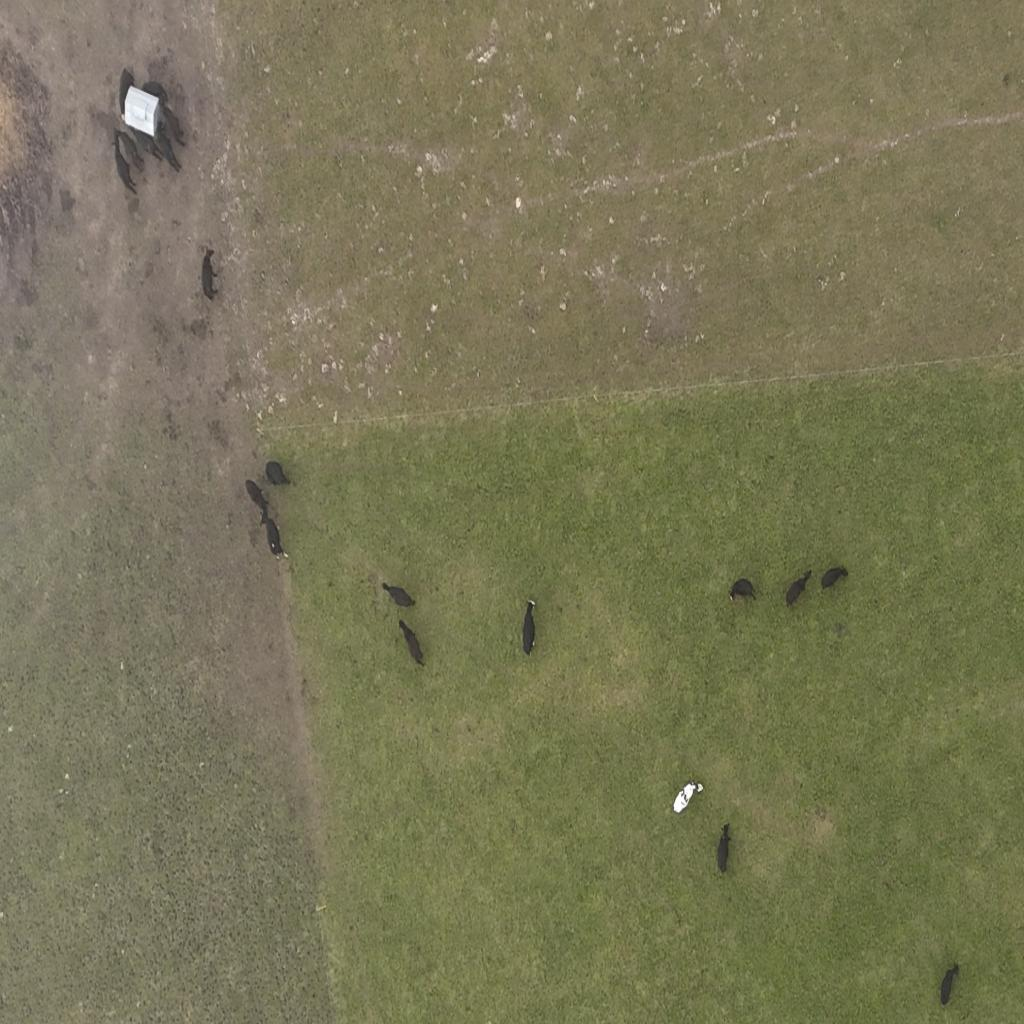cow: (153, 121, 184, 173), (112, 133, 134, 198), (398, 619, 424, 668), (260, 510, 284, 559), (242, 472, 266, 520), (785, 569, 812, 609), (819, 557, 851, 589), (201, 248, 220, 301), (730, 569, 757, 605), (382, 581, 416, 609), (118, 67, 136, 117), (522, 598, 537, 657), (940, 964, 960, 1006), (264, 460, 291, 488), (716, 823, 730, 875)
